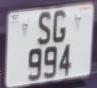4: (59, 41, 75, 82)
9: (26, 45, 44, 86), (43, 45, 60, 82)
G: (52, 8, 69, 49)
S: (36, 9, 54, 50)
